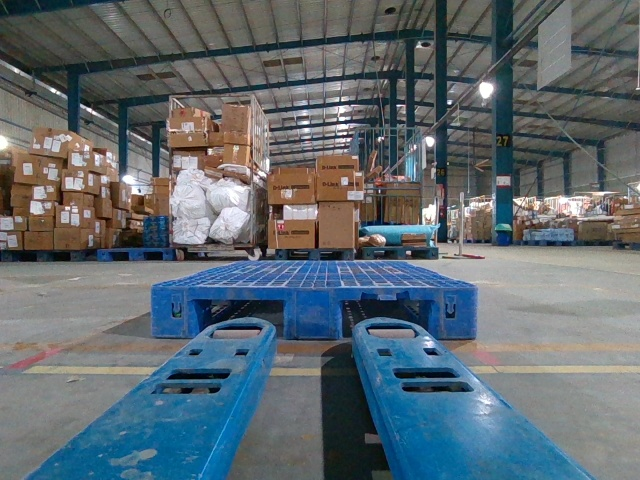block: (281, 286, 342, 342), (428, 285, 481, 344), (150, 284, 206, 338)
front: (150, 284, 478, 340)
hole pallet: (341, 300, 432, 339), (196, 302, 285, 336)
